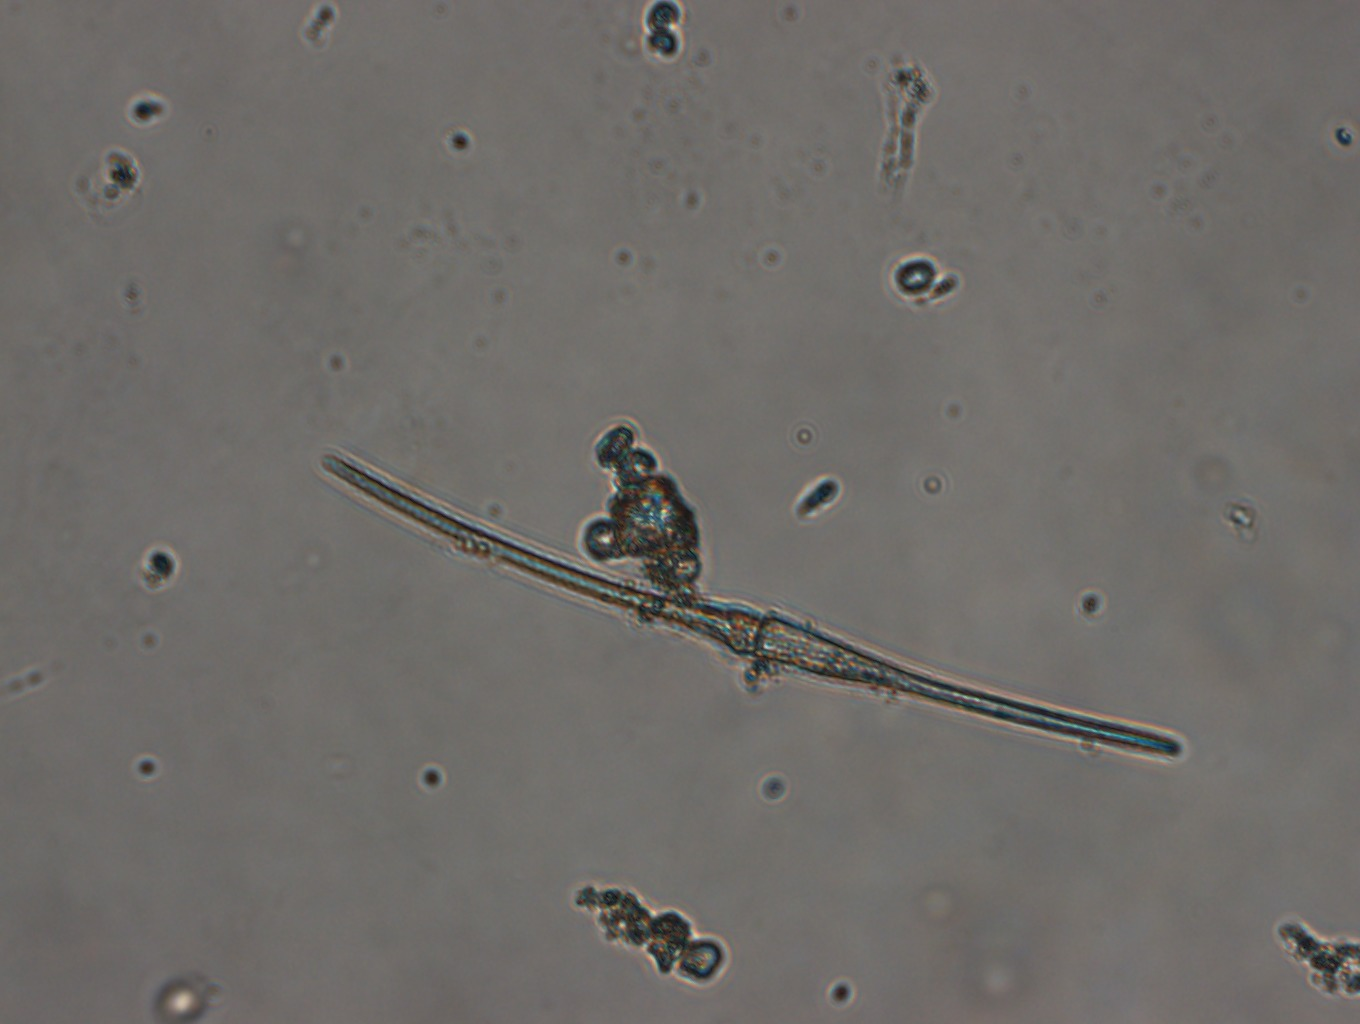ceratium fusus: (316, 443, 1185, 759)
